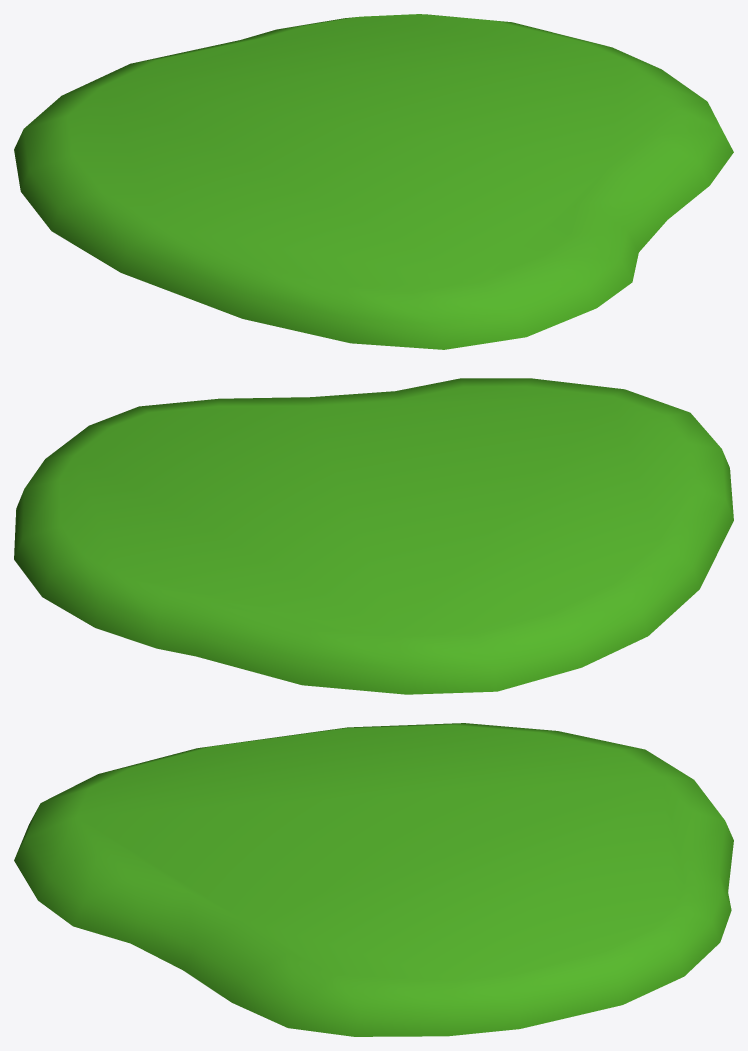
Rendered from GrassPlane_2_C.glb.
3 renders of one model, top to bottom at view 1: azimuth 30°, elevation 25°; view 2: azimuth 150°, elevation 25°; view 3: azimuth 270°, elevation 25°, orthographic. The views are drawn at different scales.
Visible parts, largest first — view 1: GrassPlane_2_C; view 2: GrassPlane_2_C; view 3: GrassPlane_2_C.
Part boxes in pixels (x1,y1,x2,y2): GrassPlane_2_C: (14, 14, 733, 349); GrassPlane_2_C: (14, 378, 733, 694); GrassPlane_2_C: (14, 723, 733, 1036).
Size of the model in its own units: 0.6776 by 0.0381 by 0.6953.
Materials: 1 (1 with a texture image).
